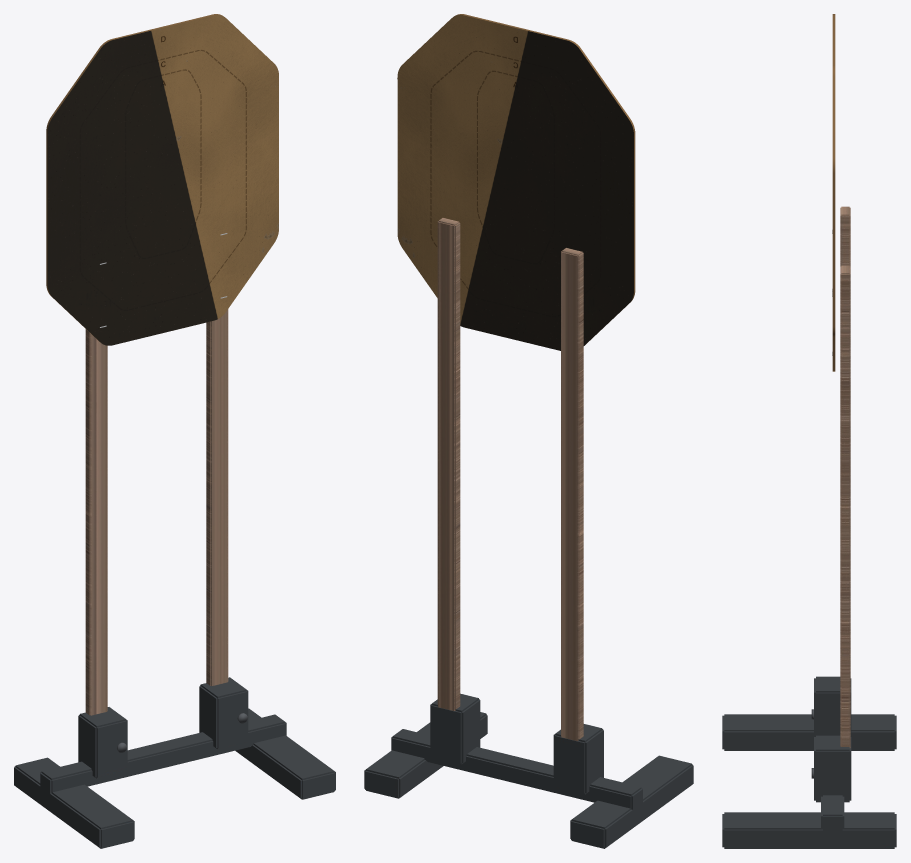
Rendered from obj_paper_hc_diagonal.glb.
3 views of the same model, side by side, from view 1: azimuth 30°, elevation 25°; view 2: azimuth 150°, elevation 25°; view 3: azimuth 270°, elevation 25° (orthographic). The views are drawn at different scales.
Parts seen in each view (by area): view 1: card, paper_hc_diagonal_body; view 2: card, paper_hc_diagonal_body; view 3: paper_hc_diagonal_body, card.
Part boxes in pixels (box(x1,y1,x2,y2)): card: box(46, 14, 278, 345); paper_hc_diagonal_body: box(14, 309, 335, 848); card: box(397, 14, 635, 350); paper_hc_diagonal_body: box(364, 218, 693, 848); paper_hc_diagonal_body: box(722, 206, 896, 848); card: box(832, 14, 835, 371).
Size of the model in its own units: 0.47 by 1.43 by 0.3.
5 materials, 2 textured.
